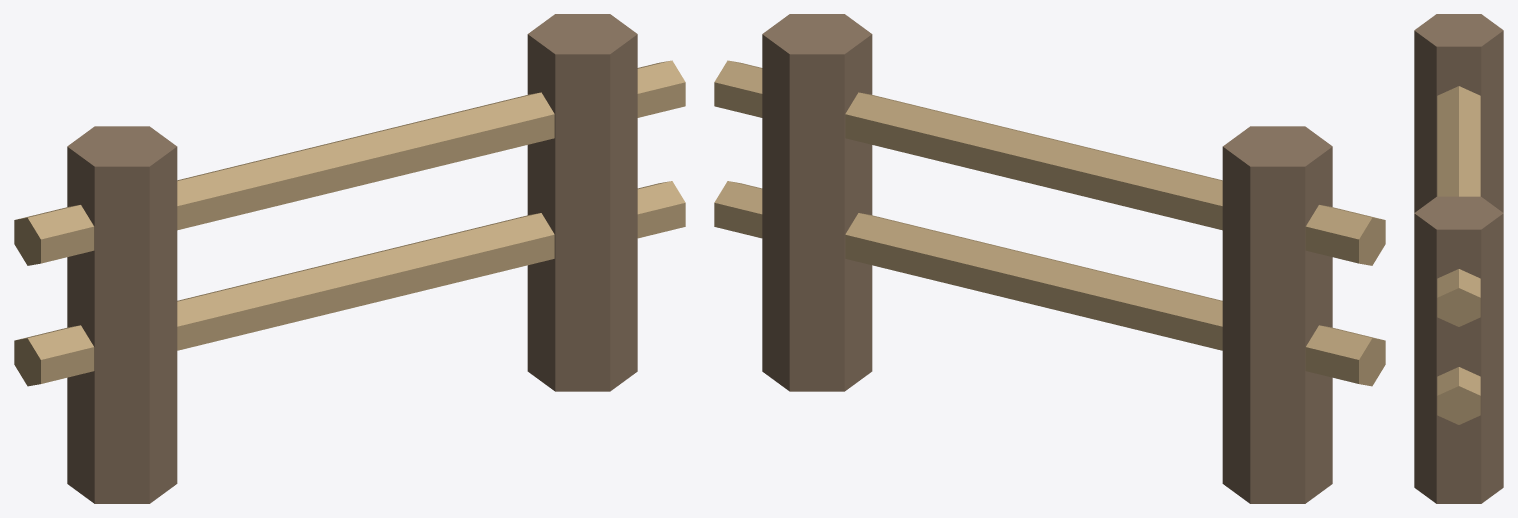
File: Low Poly Fence.fbx
3 views of the same model, side by side, from view 1: azimuth 30°, elevation 25°; view 2: azimuth 150°, elevation 25°; view 3: azimuth 270°, elevation 25° (orthographic). The views are drawn at different scales.
Parts seen in each view (by area): view 1: Fence; view 2: Fence; view 3: Fence.
Part boxes in pixels (box(x1,y1,x2,y2)): Fence: box(14, 14, 685, 503); Fence: box(714, 14, 1385, 503); Fence: box(1414, 14, 1503, 503).
Size of the model in its own units: 700 by 350 by 103.
